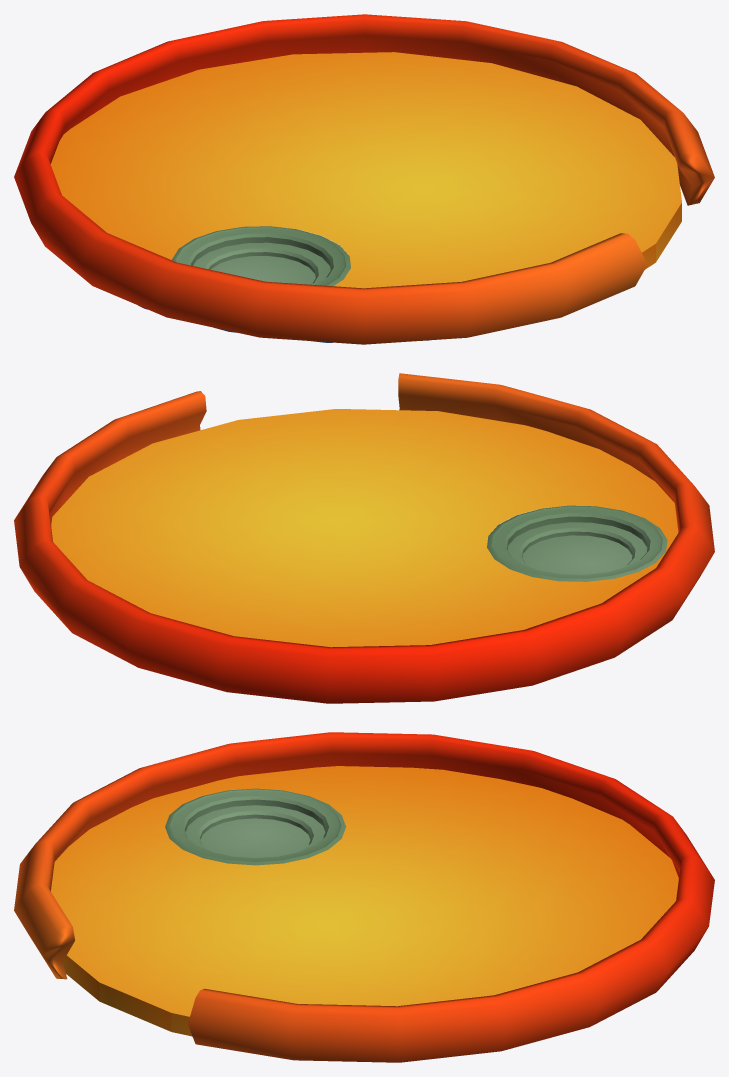
Rendered from SM_Y_01_Yard_10.fbx.
3 renders of one model, top to bottom at view 1: azimuth 30°, elevation 25°; view 2: azimuth 150°, elevation 25°; view 3: azimuth 270°, elevation 25°, orthographic.
Parts seen in each view (by area): view 1: SM_Y_01_Yard_10; view 2: SM_Y_01_Yard_10; view 3: SM_Y_01_Yard_10.
Part boxes in pixels (box(x1,y1,x2,y2)): SM_Y_01_Yard_10: box(14, 14, 714, 344); SM_Y_01_Yard_10: box(14, 373, 714, 703); SM_Y_01_Yard_10: box(14, 732, 714, 1062).
Bounding box in the file's own units: 3128 × 263 × 3128.
